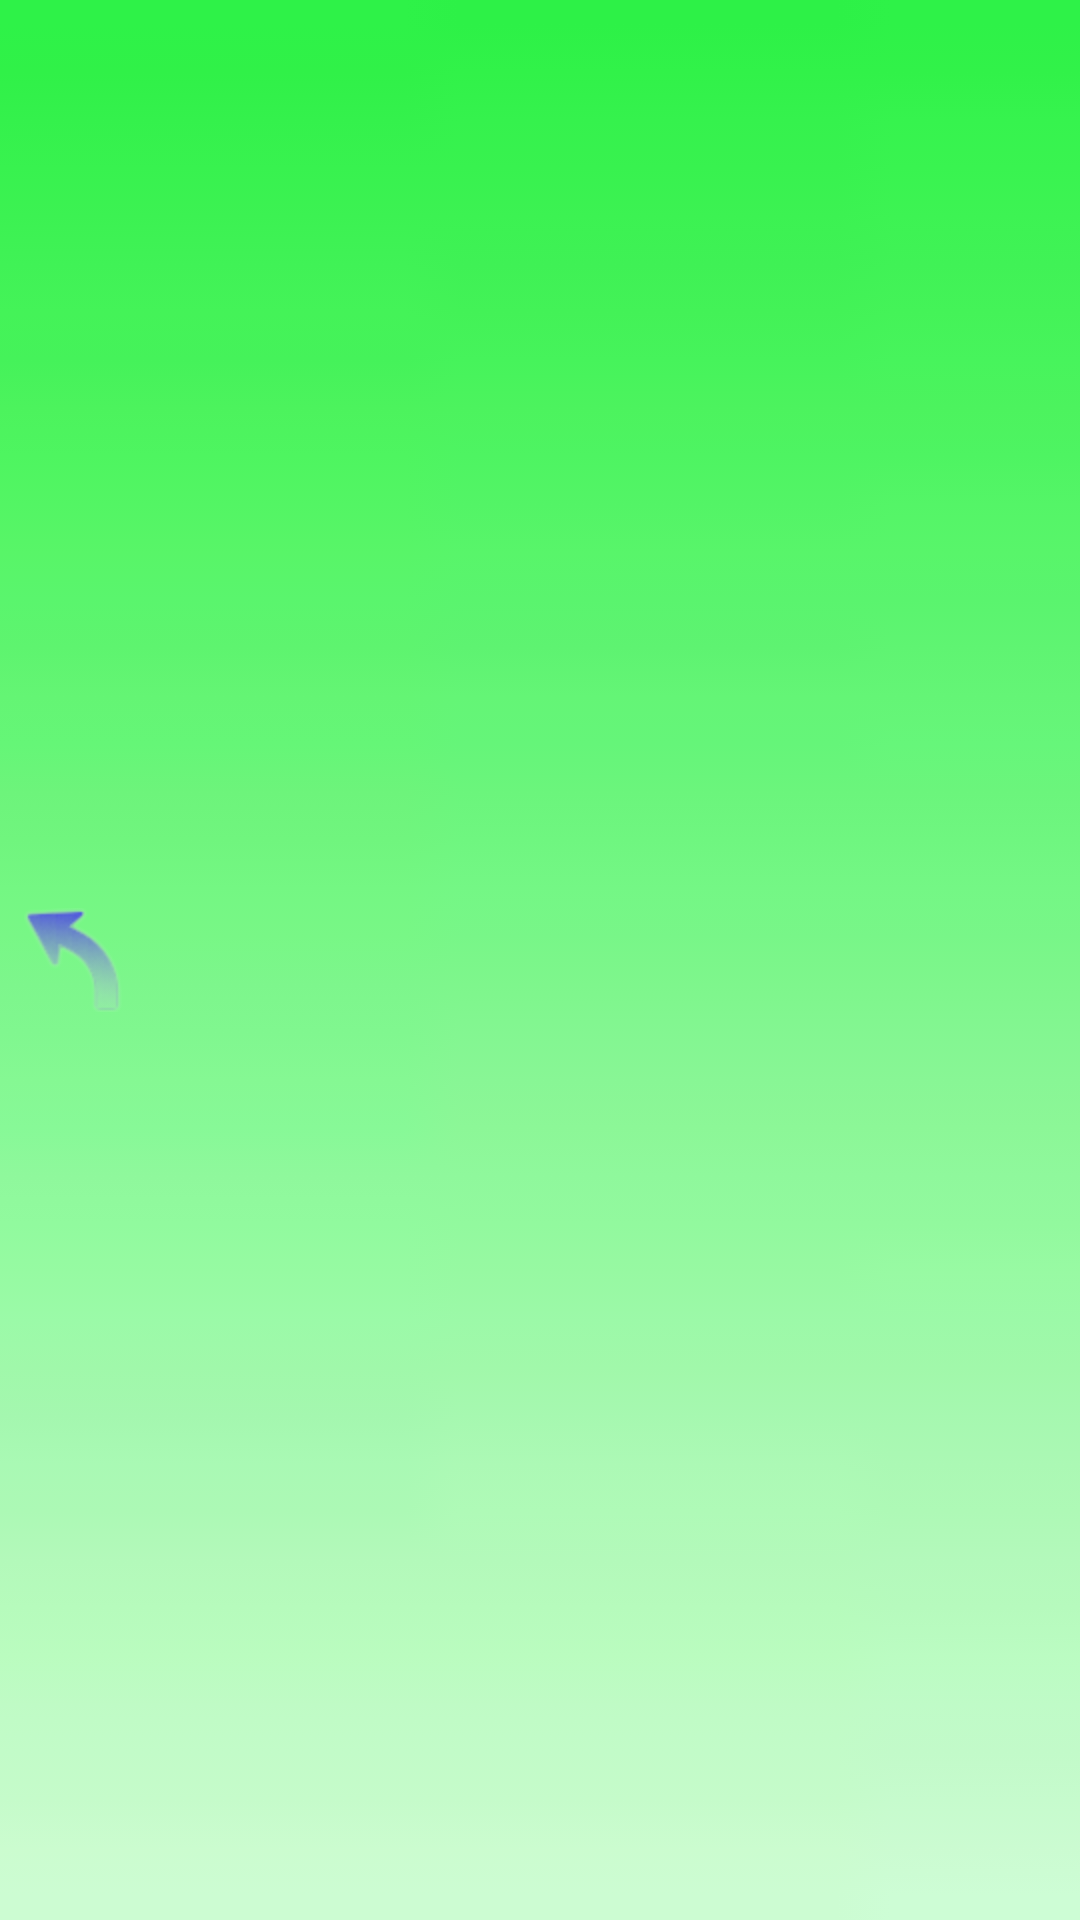

Icons on this 1080px x 1920px Android screen, each with its box as region(x1, y1, x2, y2):
title back: region(27, 911, 118, 1010)
